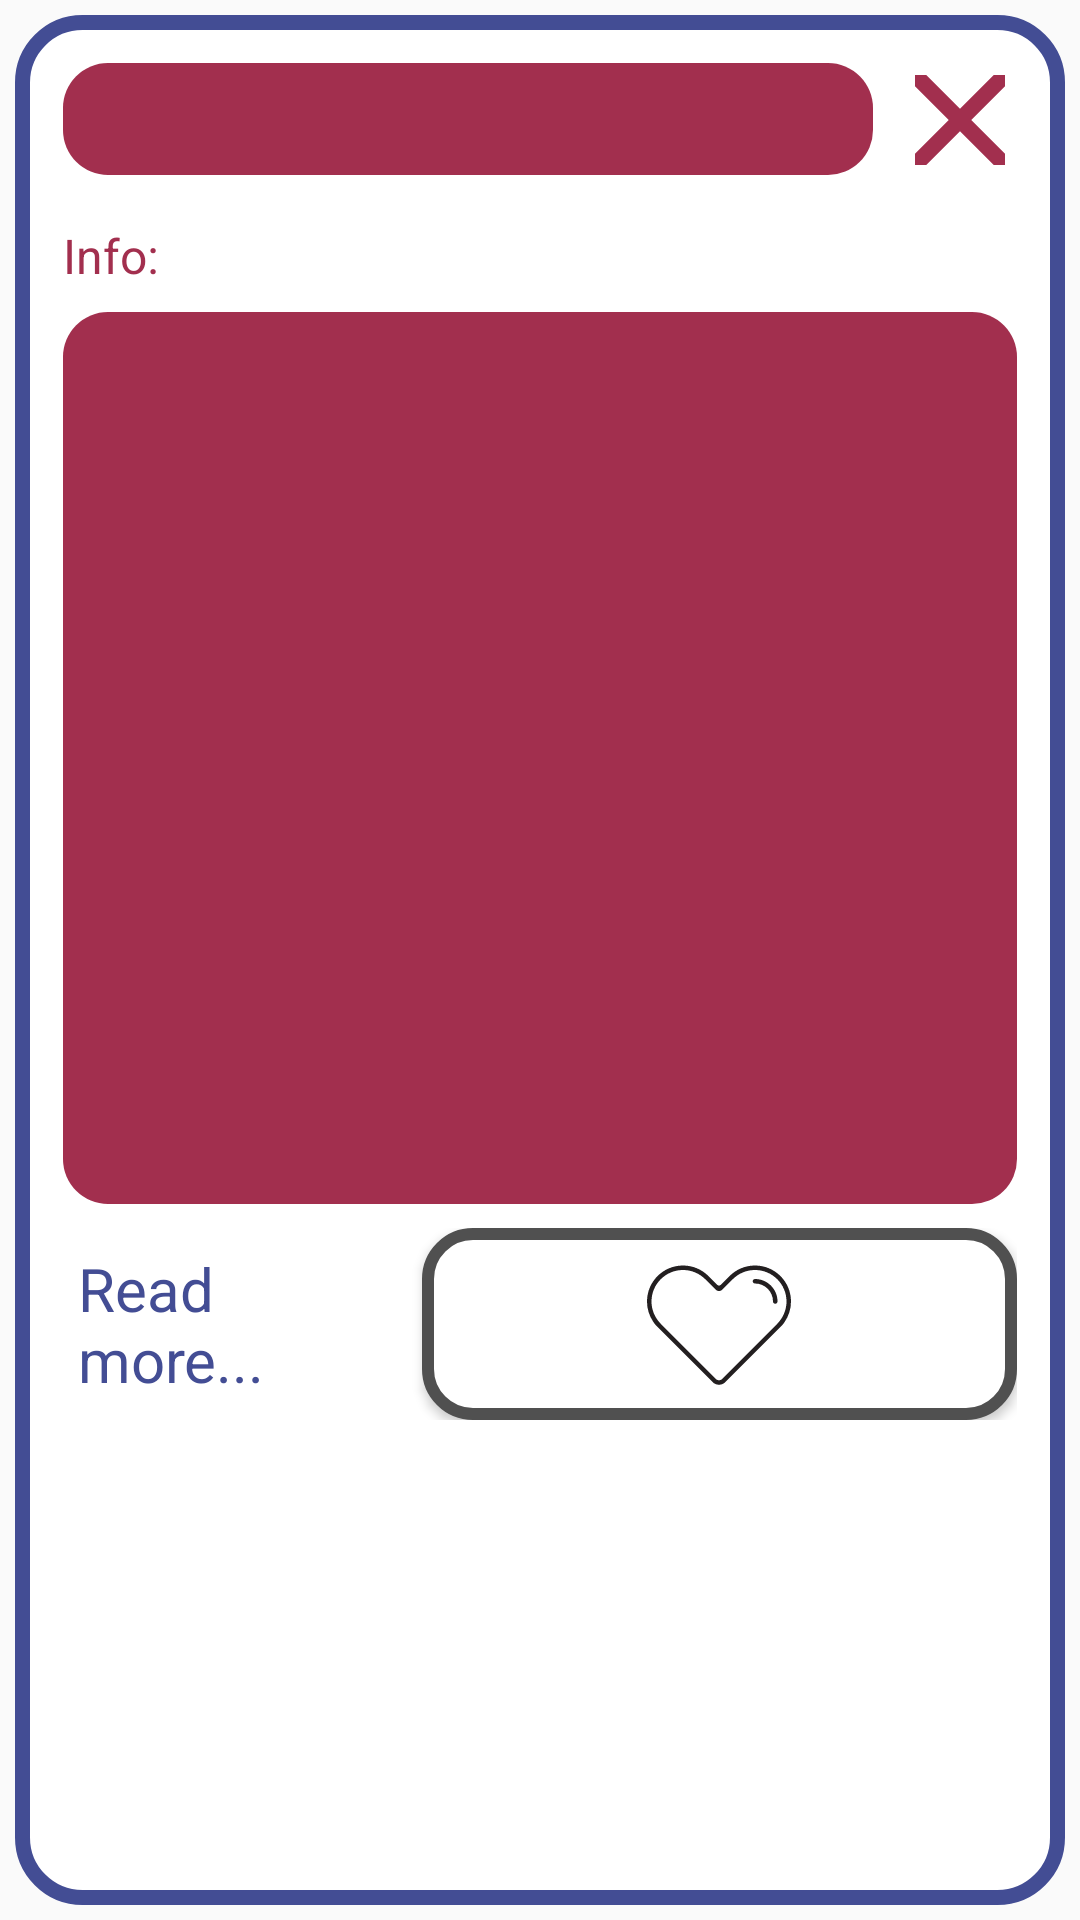

Screen size 1080×1920. Icon name, then its center in pixels as [x,y]:
close: [960,120]
